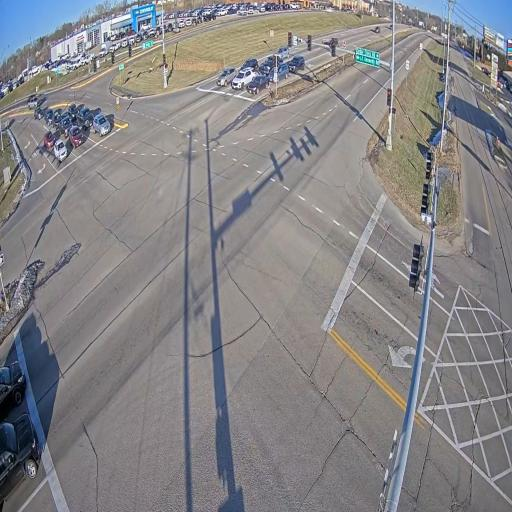pickup: (77, 107, 93, 129), (259, 55, 275, 75), (60, 115, 73, 137), (28, 95, 39, 109), (278, 56, 282, 63)
sedan: (246, 74, 269, 94), (69, 126, 84, 148), (44, 131, 55, 149)
suv: (0, 414, 41, 512), (0, 361, 27, 418), (231, 68, 255, 89), (216, 67, 237, 86), (93, 114, 110, 136), (54, 138, 68, 162), (288, 55, 305, 73), (241, 57, 258, 73), (52, 112, 62, 131), (68, 103, 78, 122), (276, 46, 289, 60), (45, 109, 53, 126), (34, 107, 44, 119), (374, 26, 380, 33), (389, 24, 393, 30)
van: (269, 63, 289, 83)
